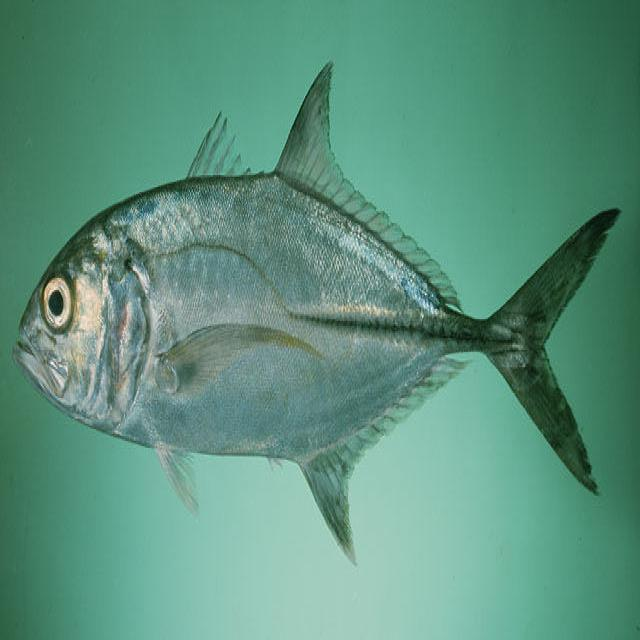ikan: (13, 37, 625, 595)
